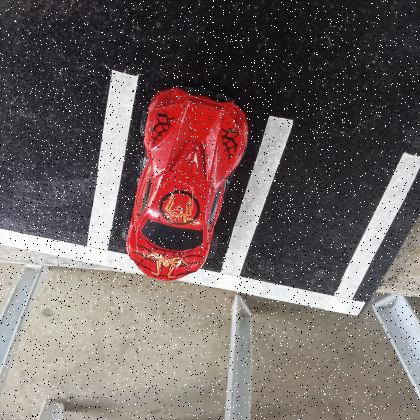Car: (125, 85, 249, 280)
